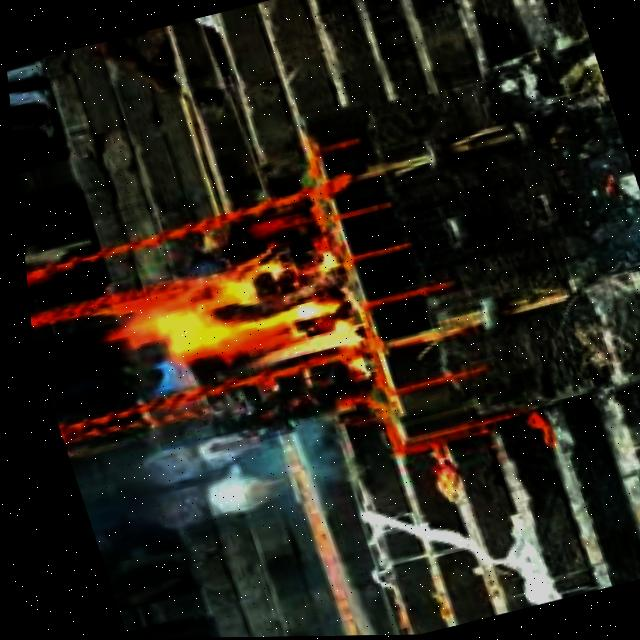Fire: (70, 242, 361, 429)
